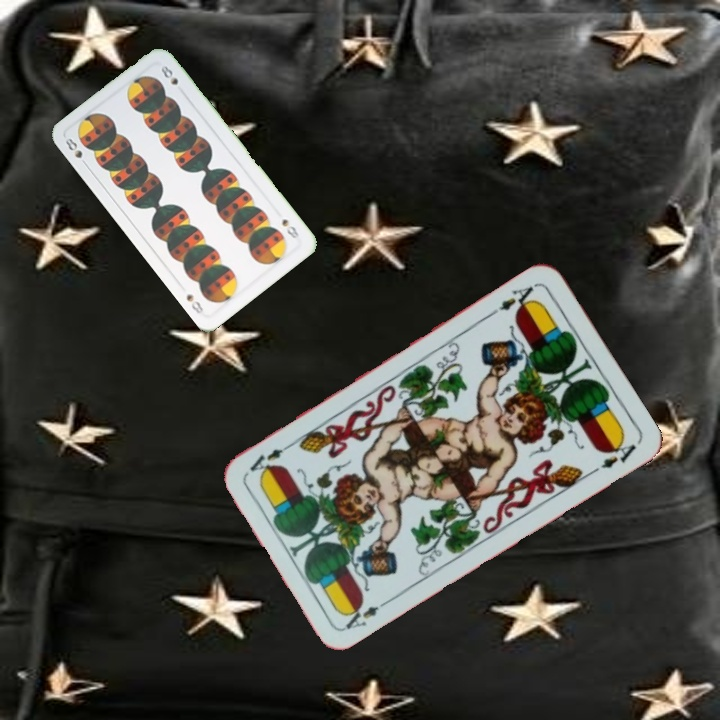EA: (487, 280, 539, 318), (339, 598, 381, 633)
S8: (61, 134, 91, 169), (278, 215, 302, 241)
